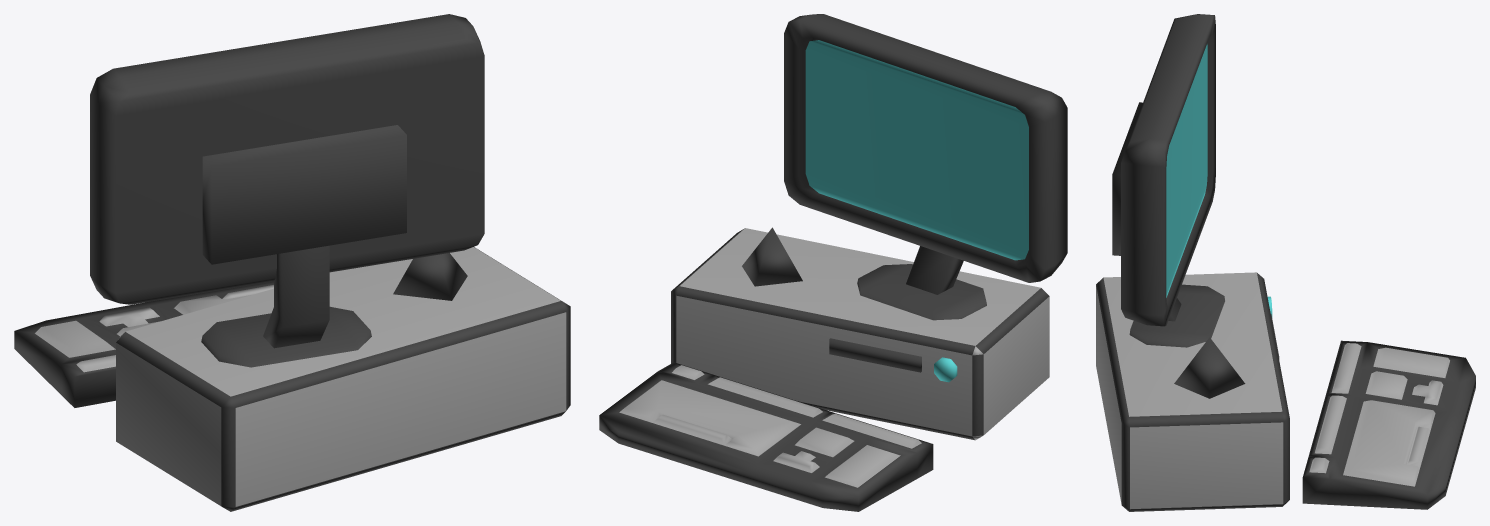
3 views of the same model, side by side, from view 1: azimuth 30°, elevation 25°; view 2: azimuth 150°, elevation 25°; view 3: azimuth 270°, elevation 25° (orthographic). The views are drawn at different scales.
Parts seen in each view (by area): view 1: mesh_PC_01; view 2: mesh_PC_01; view 3: mesh_PC_01.
Boxes of the visible parts, <box> form: mesh_PC_01: <box>14,14,570,511</box>; mesh_PC_01: <box>599,14,1067,511</box>; mesh_PC_01: <box>1096,14,1475,511</box>.
Bounding box in the file's own units: 18.11 × 16.34 × 16.74.
